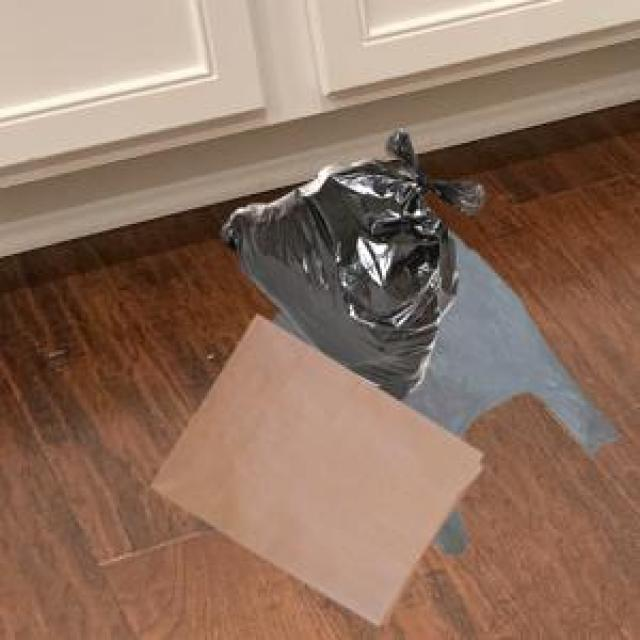miscellaneous trash: (218, 124, 480, 397)
paper: (147, 312, 478, 621)
